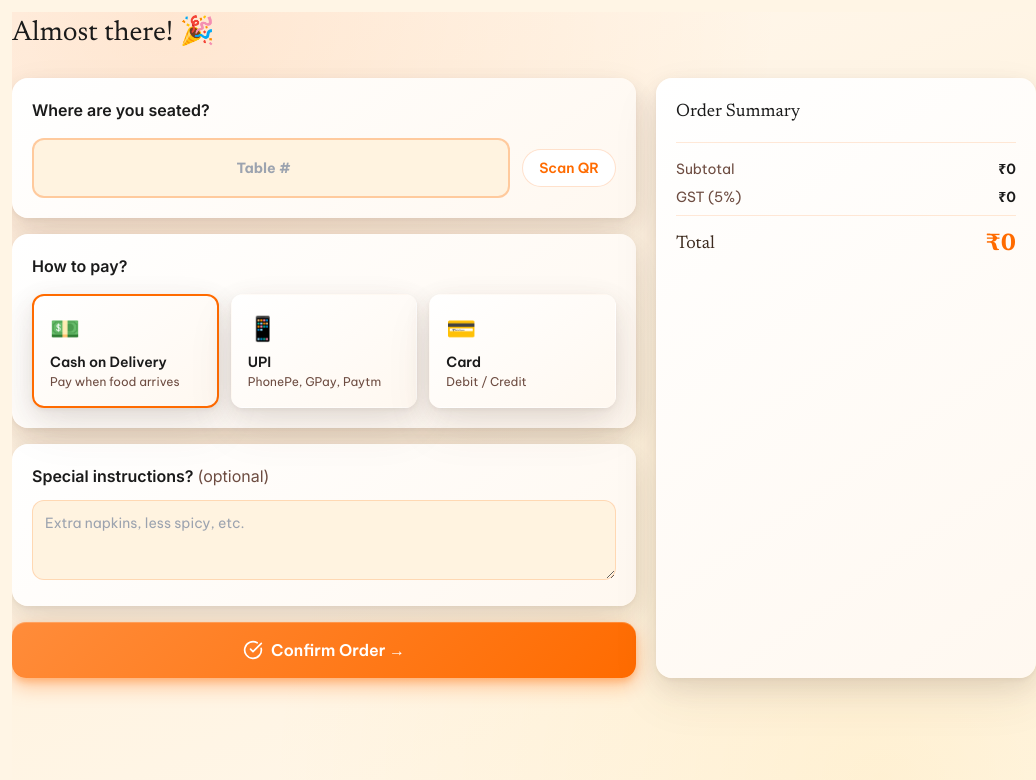
Test: CheckoutScreen › blocks an empty cart with a toast
This screenshot has width=1036, height=780.
Click the button "Confirm Order →" at (324, 650), box [12,622,636,678]
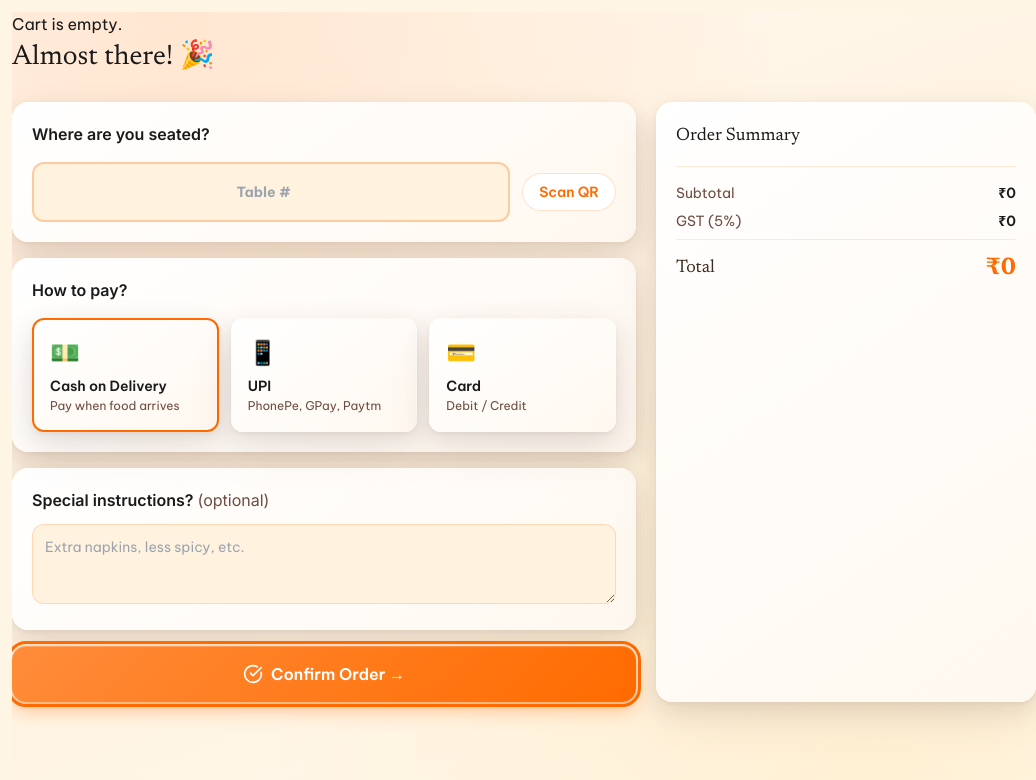
expect the message reads "Cart is empty.": met, box [12,14,122,34]
